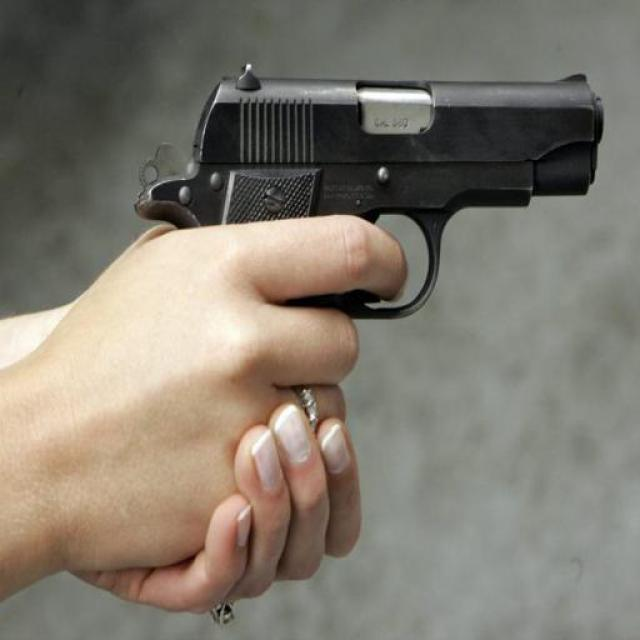pistol: (136, 58, 605, 324)
